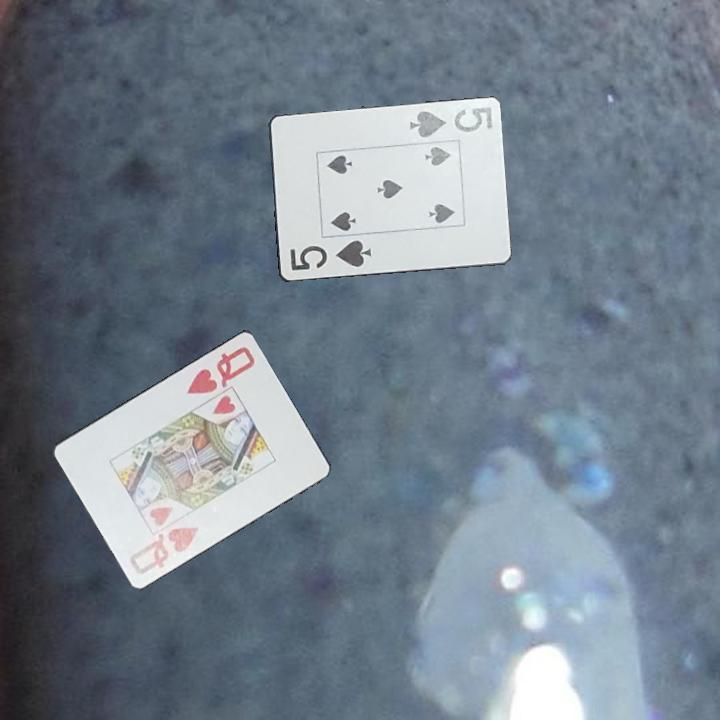5s: (406, 103, 495, 141), (286, 237, 374, 274)
Qh: (183, 340, 260, 397), (126, 522, 202, 577)
